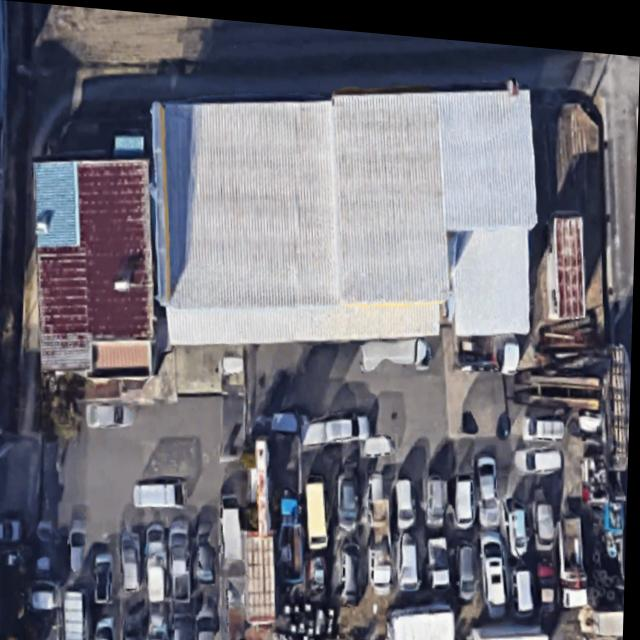Batiment: (153, 81, 539, 340), (35, 156, 156, 372)
